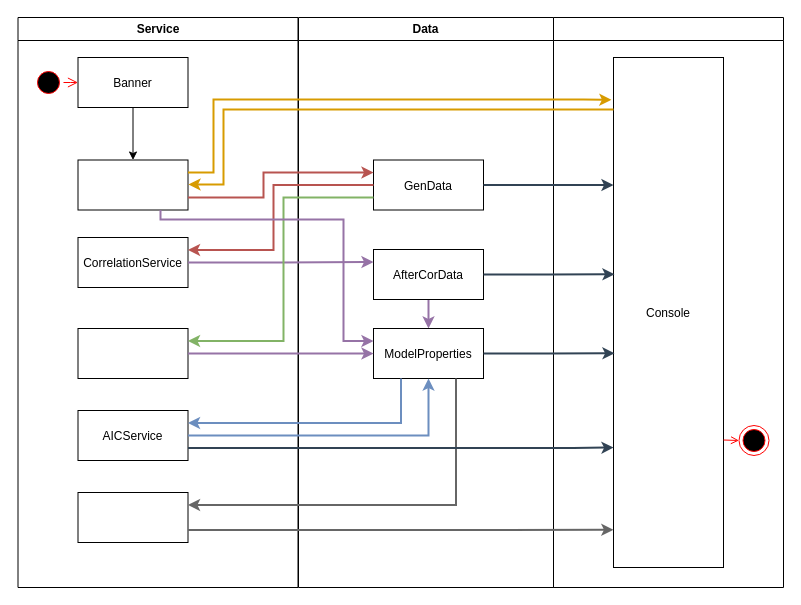
Some shapes in this 801 by 605 pixel diagram are drawn without their labels. Each missing label, with the box of its shape:
Console View: (552, 16, 784, 588)
DistributionService: (77, 328, 188, 378)
InputService: (77, 159, 188, 210)
PredictService: (77, 492, 188, 542)
